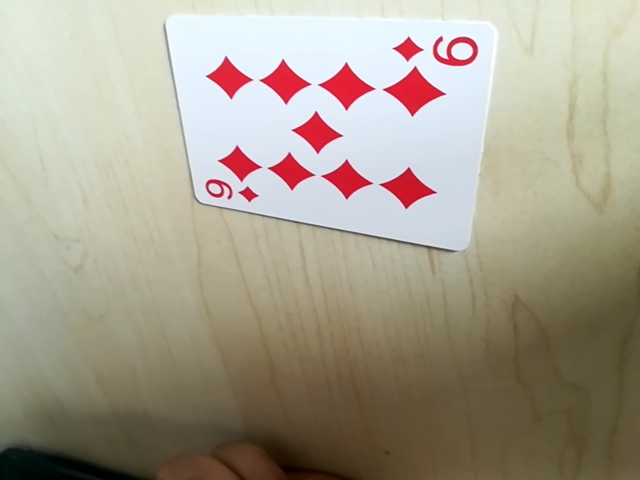fk 9: (392, 25, 482, 71), (199, 177, 260, 210)
